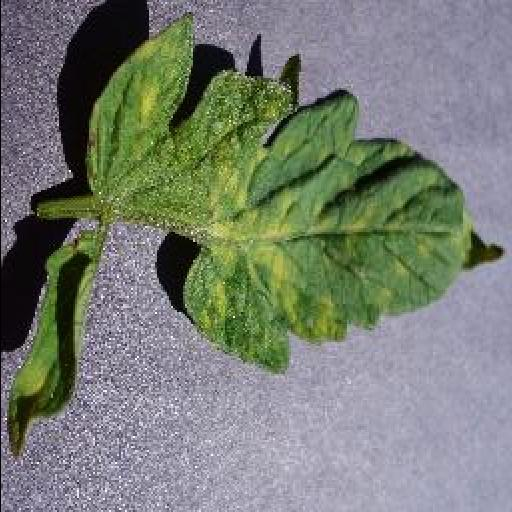disease_tomato: (88, 12, 506, 378), (6, 231, 114, 462)
